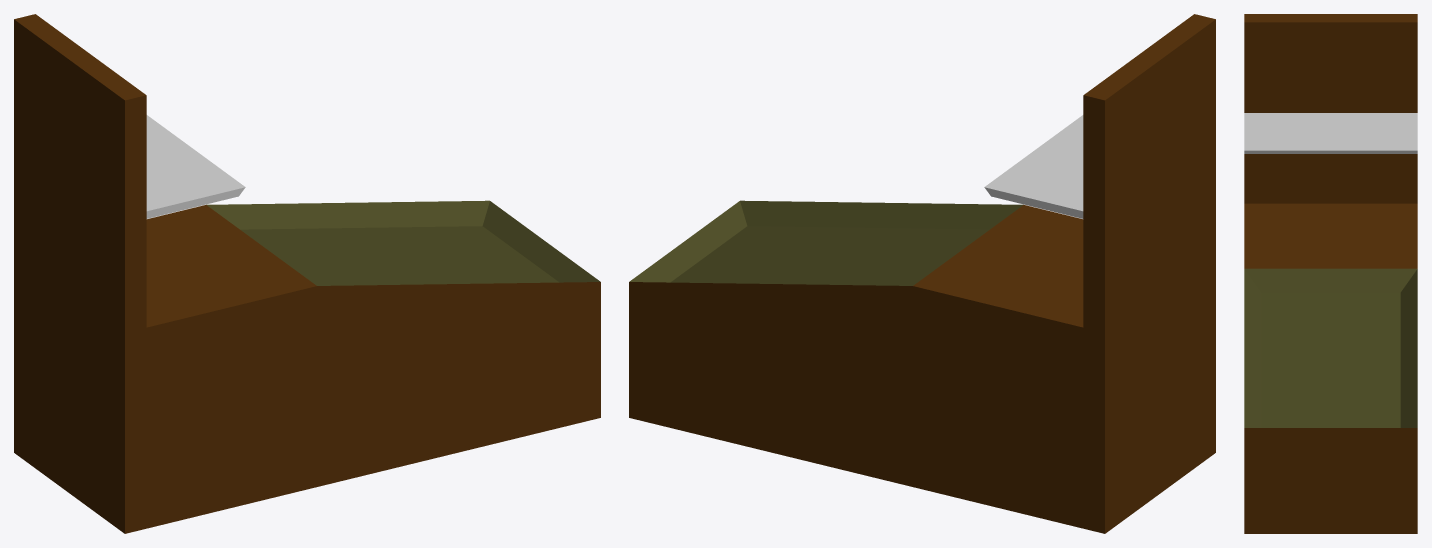
Rendered from shelve2.fbx.
3 views of the same model, side by side, from view 1: azimuth 30°, elevation 25°; view 2: azimuth 150°, elevation 25°; view 3: azimuth 270°, elevation 25° (orthographic). The views are drawn at different scales.
Visible parts, largest first — view 1: Kostka.001; view 2: Kostka.001; view 3: Kostka.001.
Part boxes in pixels (box(x1,y1,x2,y2)): Kostka.001: box(14, 14, 600, 533); Kostka.001: box(629, 14, 1215, 533); Kostka.001: box(1244, 14, 1417, 533).
Size of the model in its own units: 2022 by 1759 by 816.
